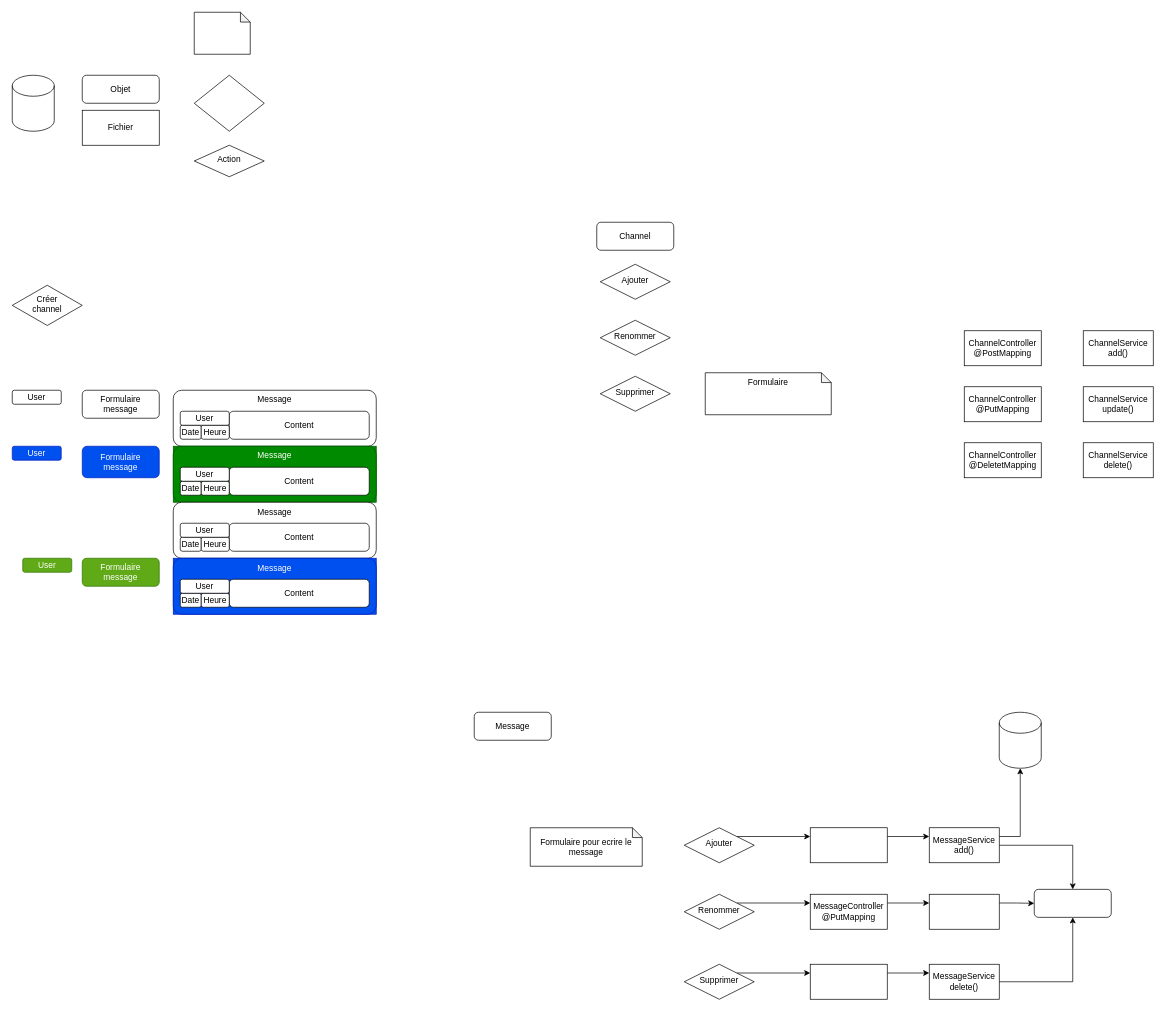
The diagram is 1166 pixels wide and 1012 high, and some of its shapes have lost their labels. The shapes that lost their labels are listed below. From the top down, each one's centre as x and y in pixels, then its label:
pixel 222 33: HTML
pixel 33 103: Base de données
pixel 229 103: Action optionnelle
pixel 1020 740: Table message
pixel 848 845: MessageController @PostMapping
pixel 964 911: MessageService get()
pixel 1072 903: class Message
pixel 848 981: MessageController @DeleteMapping
